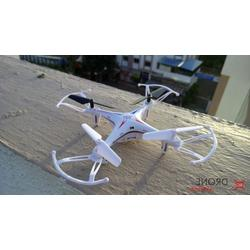drone: (51, 83, 219, 186)
